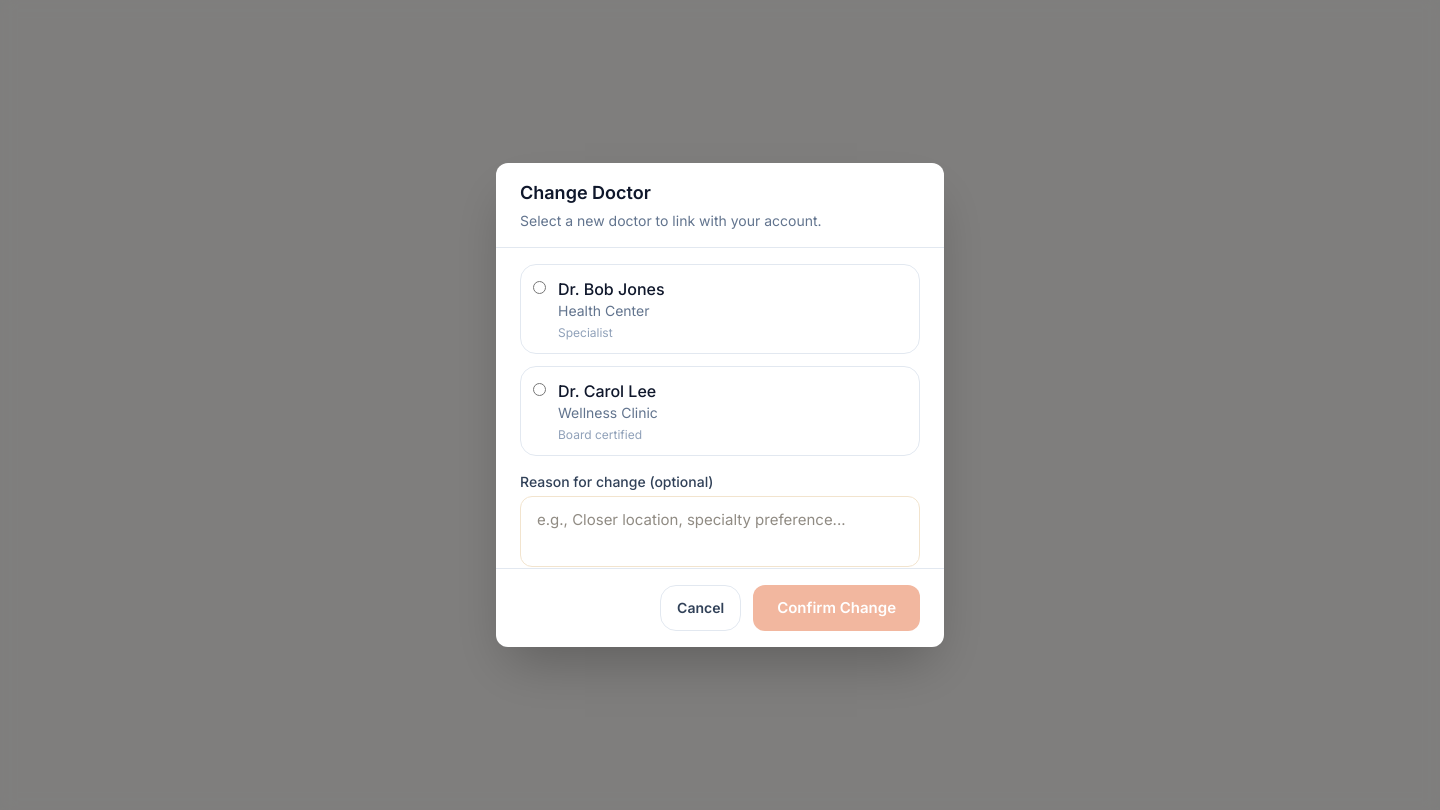
Test case: ChangeDoctorModal › Error Handling - Active Case Block › displays validation error when backend blocks switch due to active case
Expected: the text "Dr. Bob Jones" is shown, [558,279,664,299]
// Select doctor and try to confirm
Click the radio button labelled "Dr. Bob Jones Health Center Specialist" at {"x": 540, "y": 287}, box [533,281,546,294]
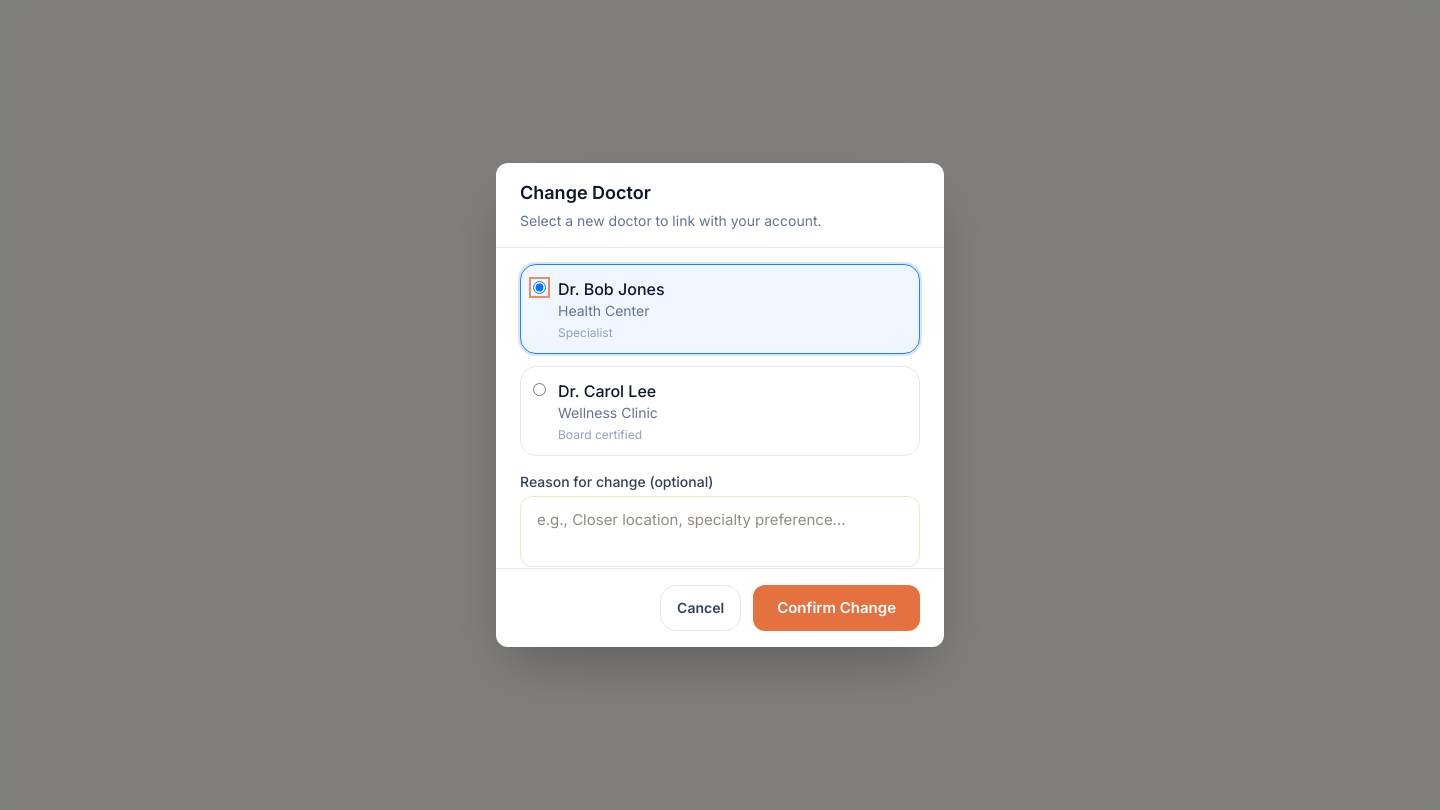
Click the button "Confirm Change" at {"x": 837, "y": 608}, box [753,585,920,631]
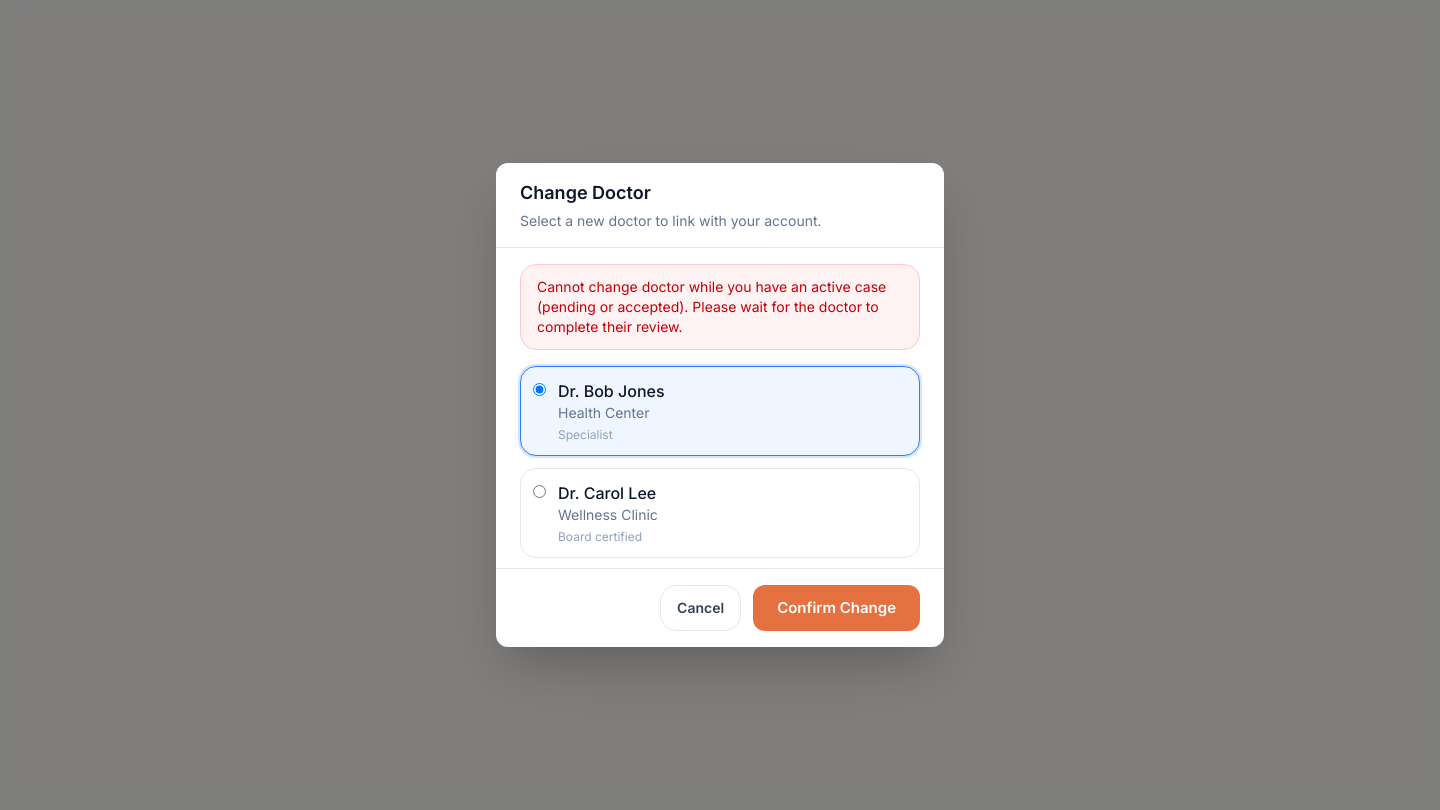
Now the text "Cannot change doctor while you have an active case (pending or accepted). Please wait for the doctor to complete their r" is shown, box [537,278,886,335]
